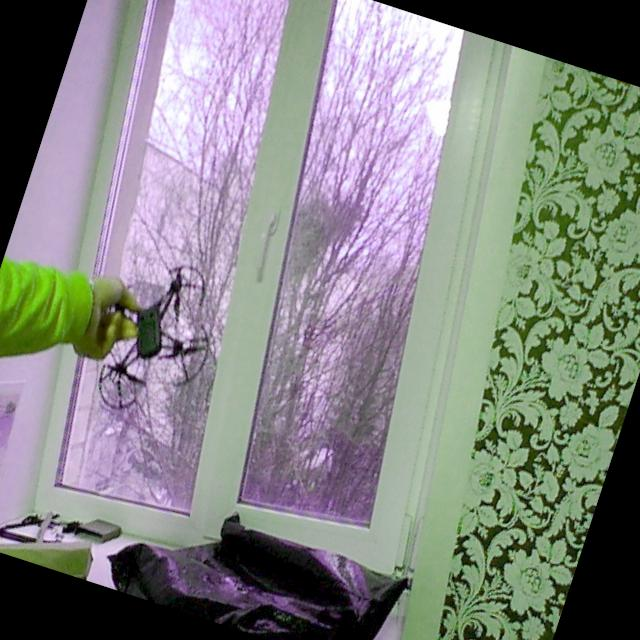drone: (56, 226, 240, 440)
